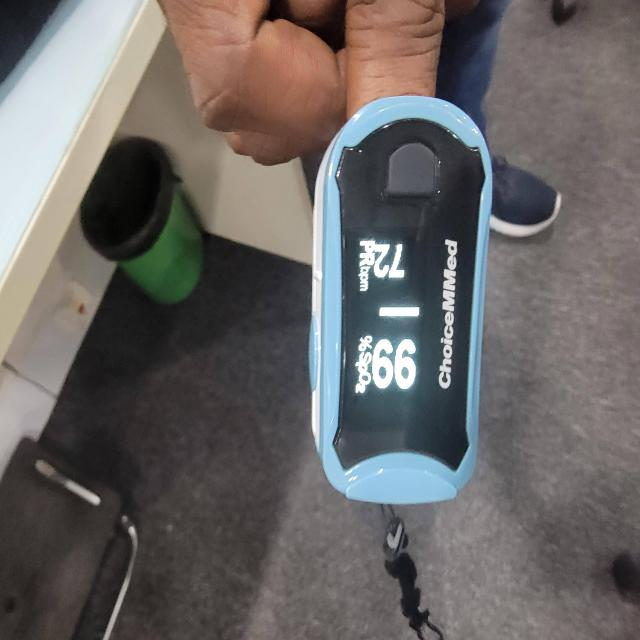spo2: (308, 96, 496, 508)
